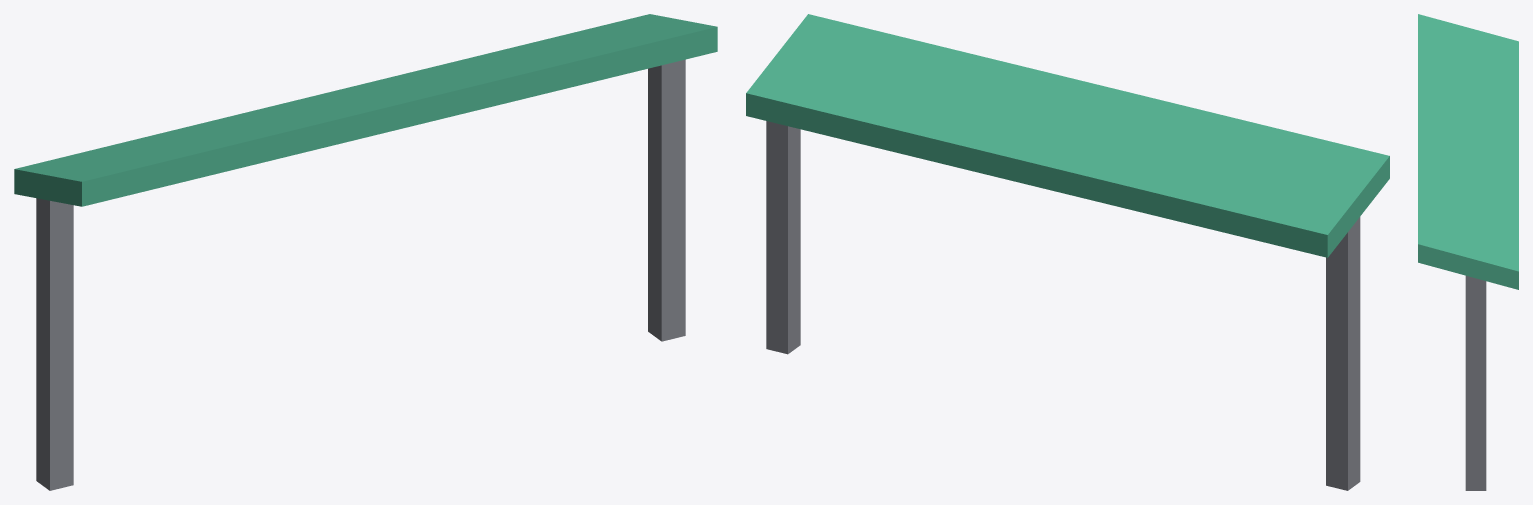
Rendered from detail_awningWide.obj.
3 renders of one model, left to right at view 1: azimuth 30°, elevation 25°; view 2: azimuth 150°, elevation 25°; view 3: azimuth 270°, elevation 25°, orthographic. The views are drawn at different scales.
Parts seen in each view (by area): view 1: detail_awningWide; view 2: detail_awningWide; view 3: detail_awningWide.
Part boxes in pixels (x1,y1,x2,y2): detail_awningWide: (14, 14, 717, 490); detail_awningWide: (746, 14, 1389, 490); detail_awningWide: (1418, 14, 1518, 490).
Bounding box in the file's own units: 0.8 × 0.4 × 0.1479.
